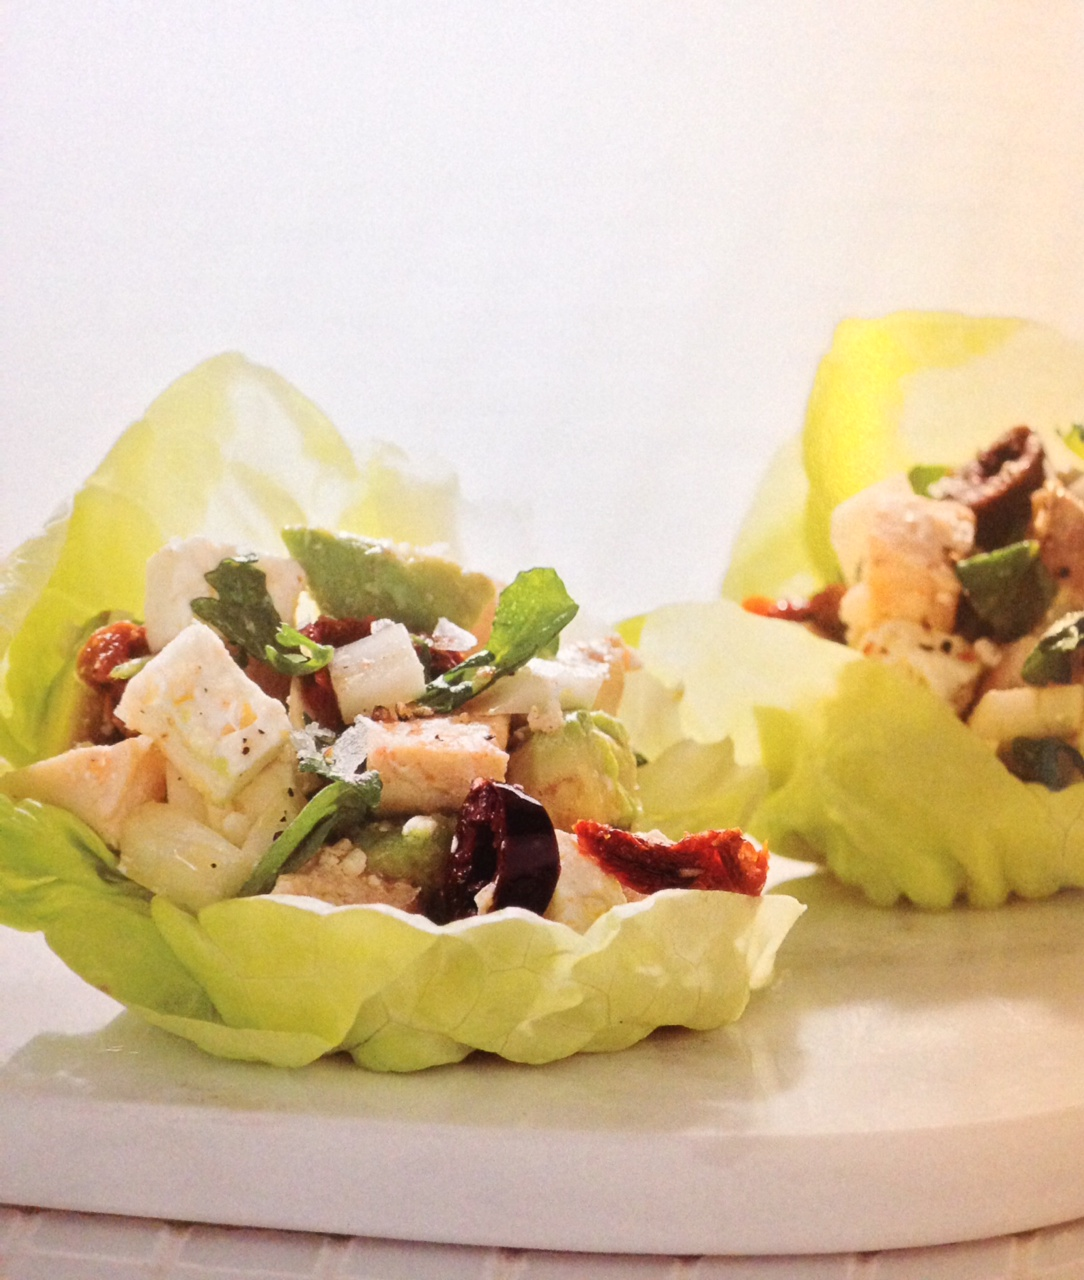chopped lettuce: (14, 884, 778, 1056), (674, 642, 1082, 915)
